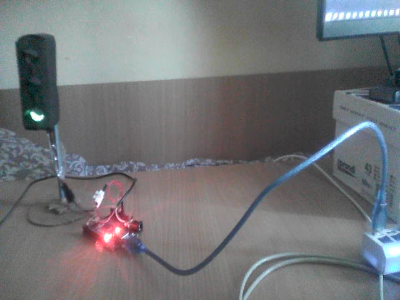trafficlight_green: (16, 38, 53, 130)
